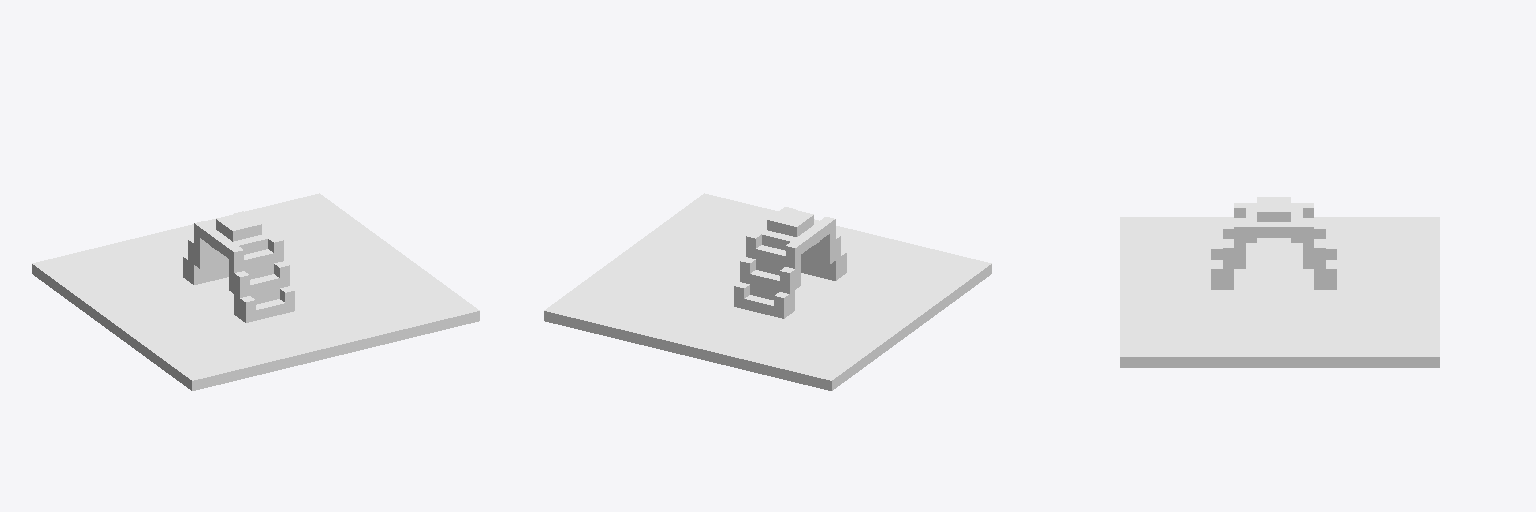
The model's file is entry.obj.
3 renders of one model, left to right at view 1: azimuth 30°, elevation 25°; view 2: azimuth 150°, elevation 25°; view 3: azimuth 270°, elevation 25°, orthographic.
Parts seen in each view (by area): view 1: object 1; view 2: object 1; view 3: object 1.
Part boxes in pixels (bbox=[...]): object 1: bbox=[32, 193, 479, 390]; object 1: bbox=[544, 193, 991, 390]; object 1: bbox=[1120, 197, 1439, 367].
Size of the model in its own units: 2.9 by 0.8 by 2.8.